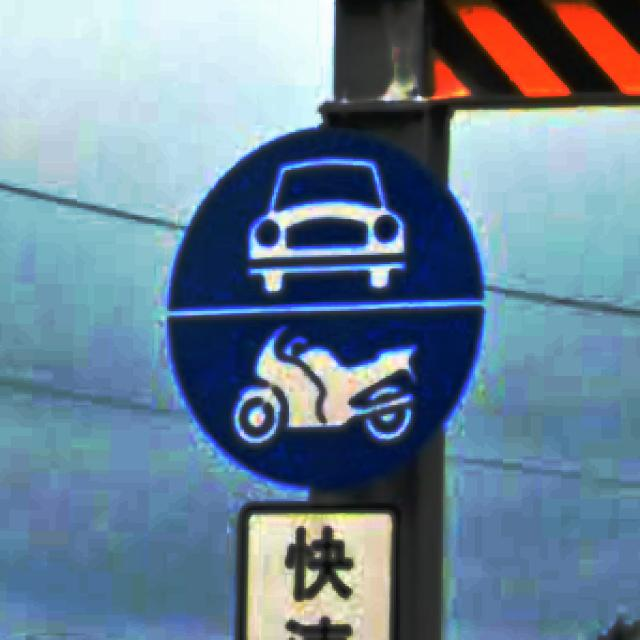carmotorcycle: (163, 121, 486, 490)
